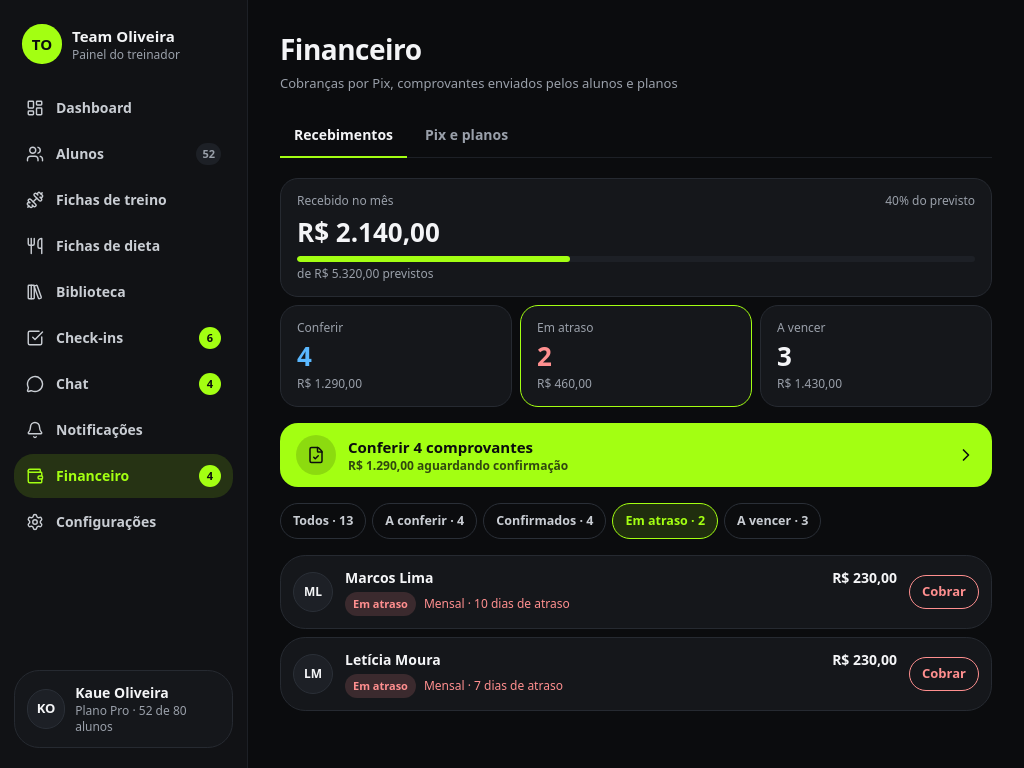
Test: Financeiro (celular) › cobrar: Pix copia e cola com o valor e o identificador
Click the button "Cobrar" in the row of "ML" at (944, 592), box 909,575 -> 979,609
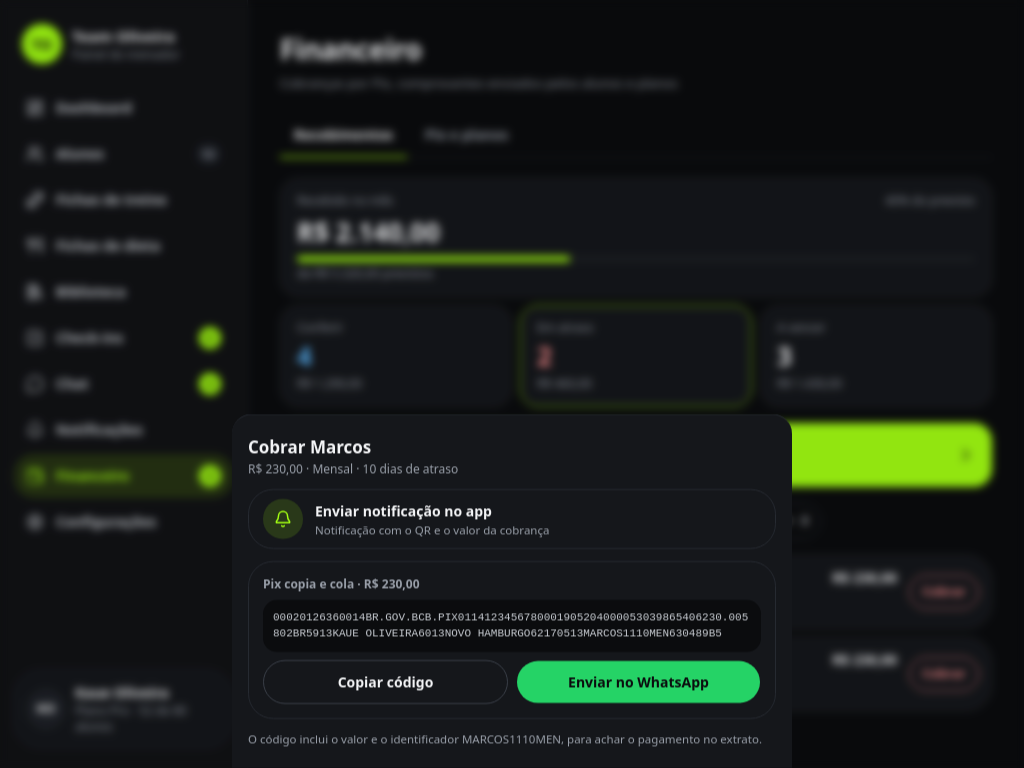
Check: the dialog "Cobrar Marcos" shows "R$ 230,00 · Mensal · 10 dias de atraso", box 232,414 -> 792,767
Check: the text "00020126" shows "5406230.00", box 273,612 -> 748,640
Check: the dialog "Cobrar Marcos" shows "identificador MARCOS1110MEN", box 232,414 -> 792,767
Click the button "Enviar notificação no app" at (512, 520), box 248,490 -> 776,550
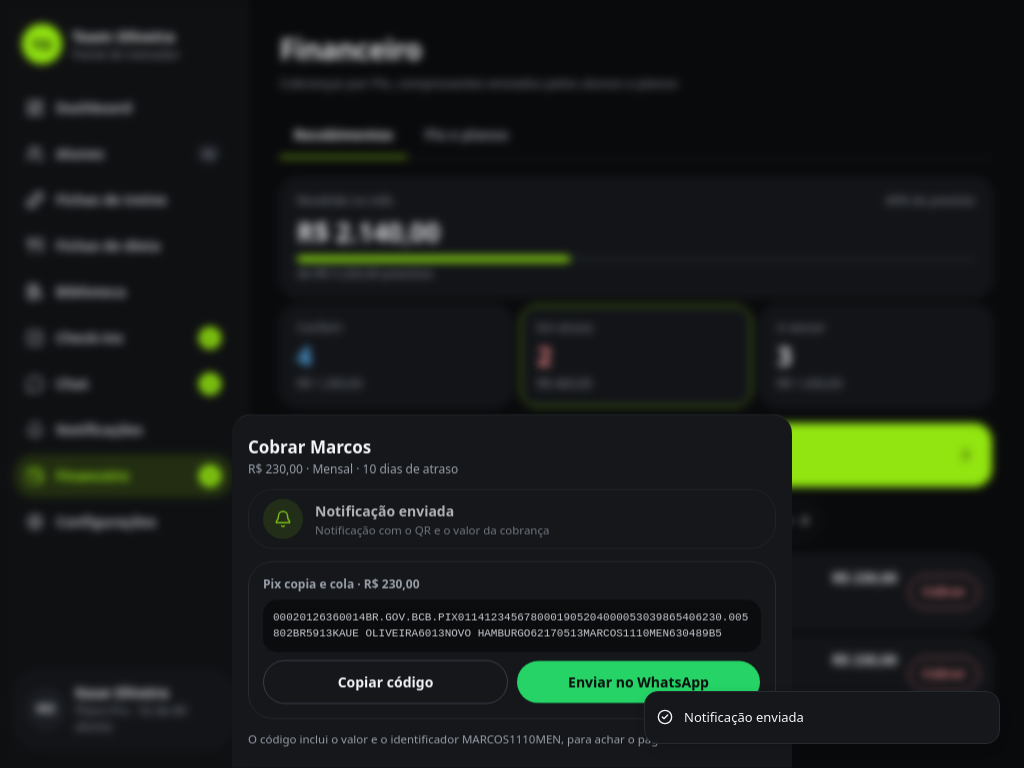
Check: the 1st text "Notificação enviada" is shown, box 315,501 -> 454,520
